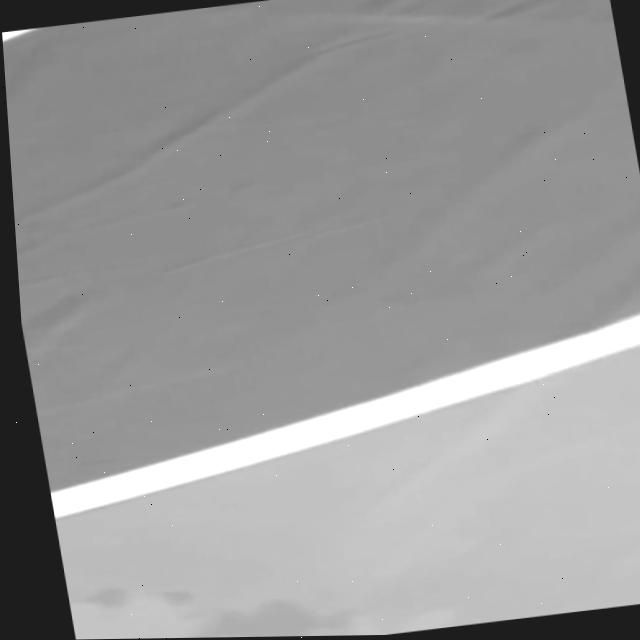center: (2, 28, 37, 40)
right: (49, 313, 640, 517)
